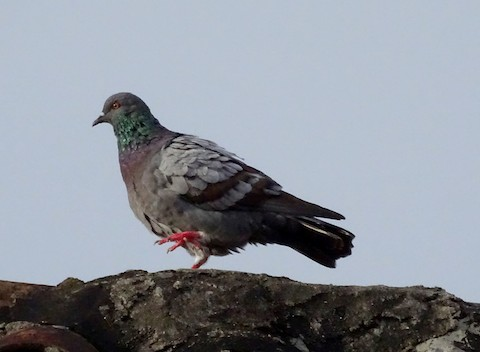pigeon: (87, 83, 361, 280)
